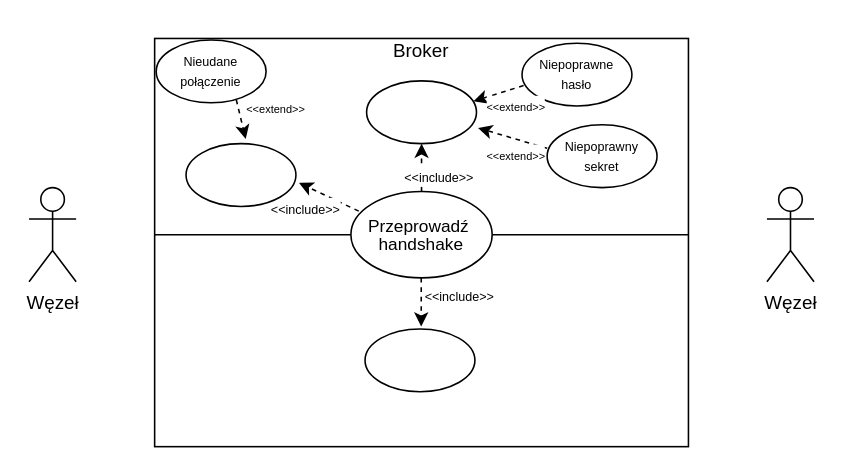
The diagram is 843 pixels wide and 474 high, and some of its shapes have lost their labels. Each missing label, with the centre of its shape:
"Odczytaj listę tematów" belongs at point (419, 359).
"Podłącz się do brokera" belongs at point (240, 174).
"Zaloguj się" belongs at point (420, 111).
